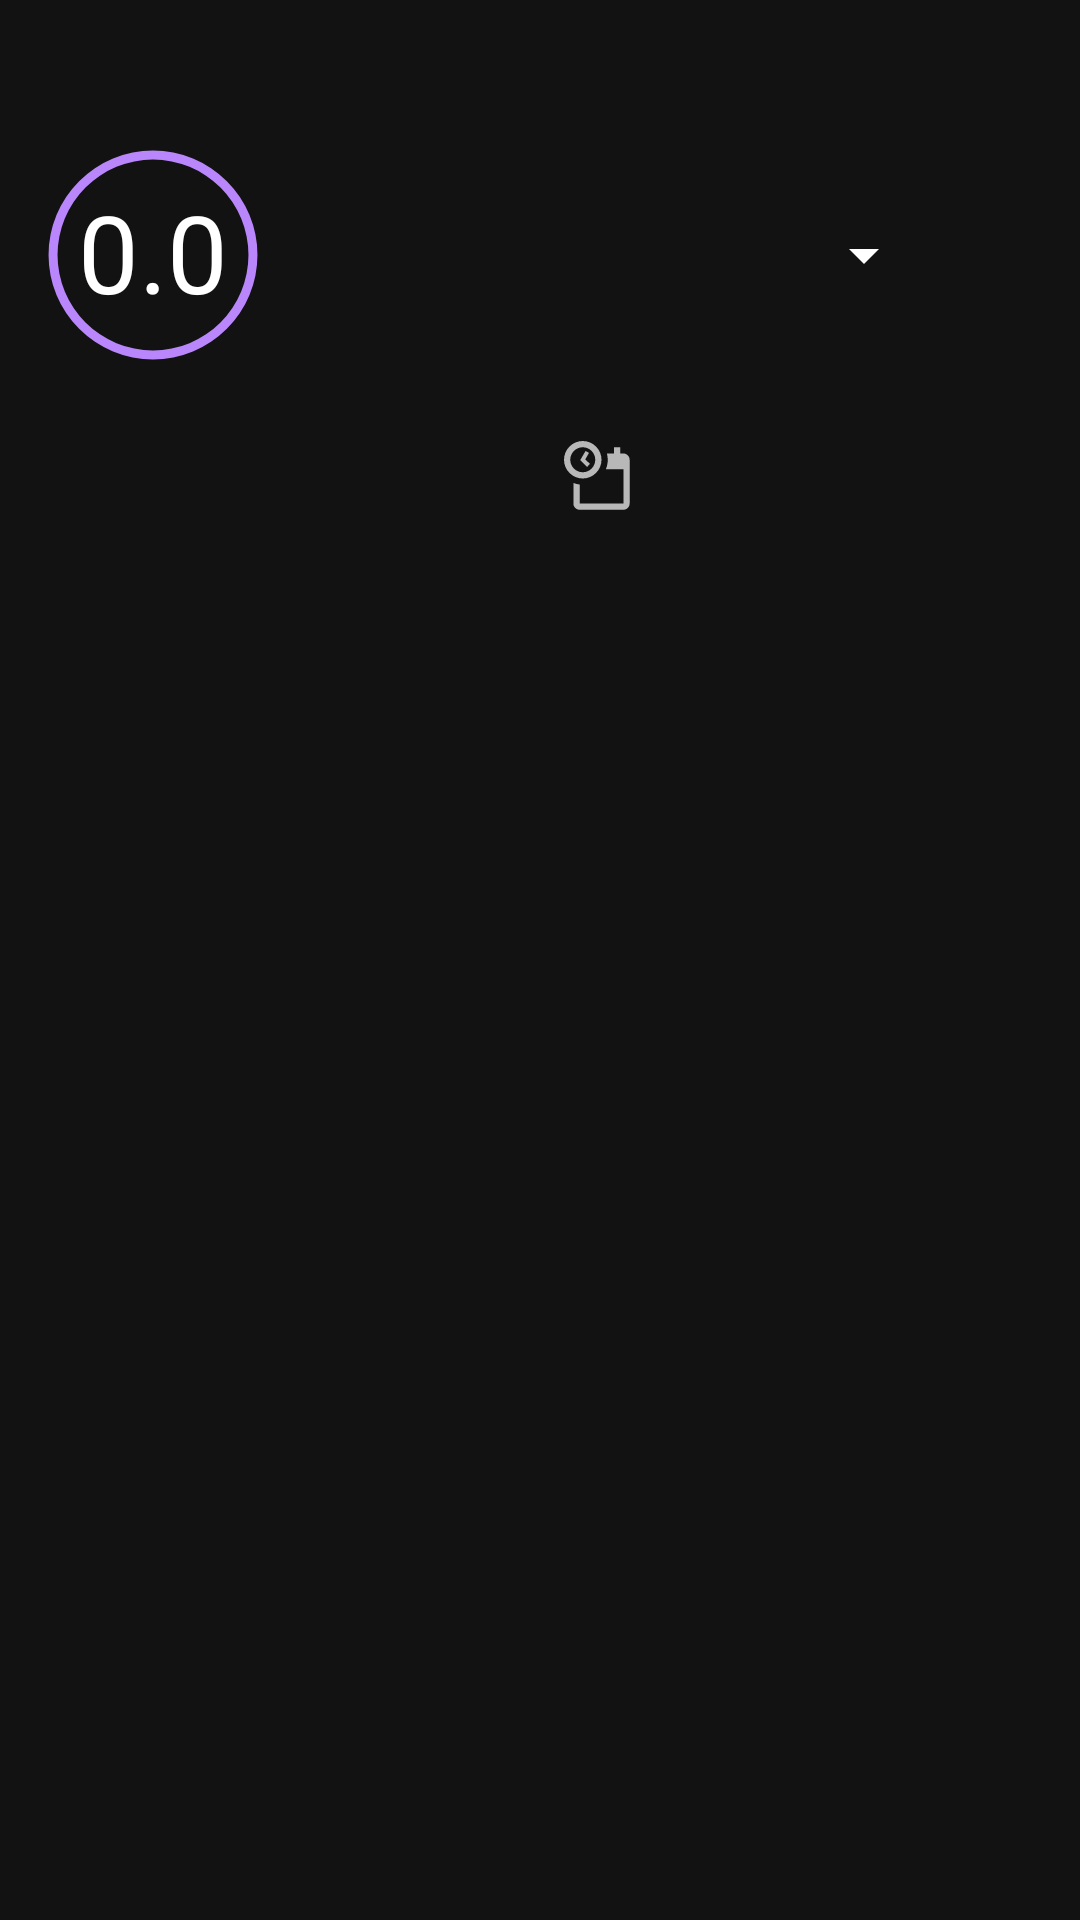

Icon click points for this 1080×1920 phone screenshot, format (x=x, y=y):
circle: (x=153, y=255)
lastest: (x=597, y=475)
